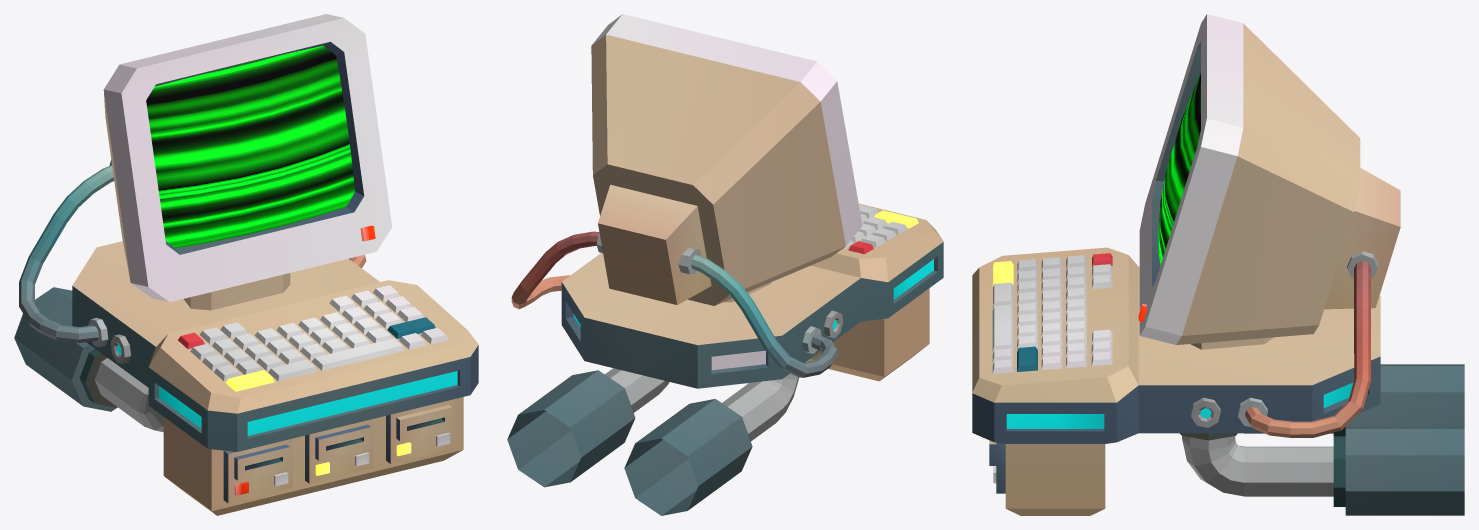
The model's file is Terminal_wall.fbx.
The picture shows the model from 3 angles, left to right: view 1: azimuth 30°, elevation 25°; view 2: azimuth 150°, elevation 25°; view 3: azimuth 270°, elevation 25°; orthographic projection. The views are drawn at different scales.
Visible parts, largest first — view 1: Terminal_wall; view 2: Terminal_wall; view 3: Terminal_wall.
Part boxes in pixels (x1,y1,x2,y2): Terminal_wall: (14, 14, 478, 515); Terminal_wall: (507, 14, 943, 515); Terminal_wall: (972, 14, 1464, 515).
Size of the model in its own units: 54.86 by 65.62 by 70.35.
